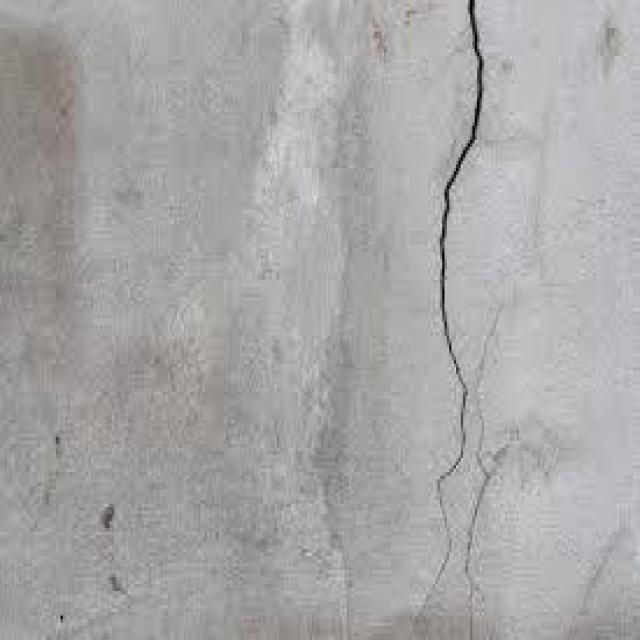Crack: (436, 2, 494, 610)
